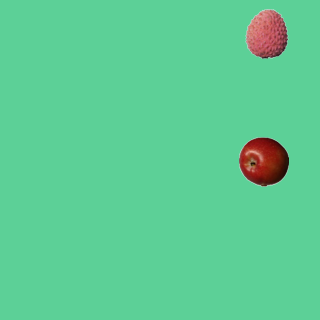Apple Braeburn: (238, 136, 288, 186)
Lychee: (241, 8, 291, 58)
